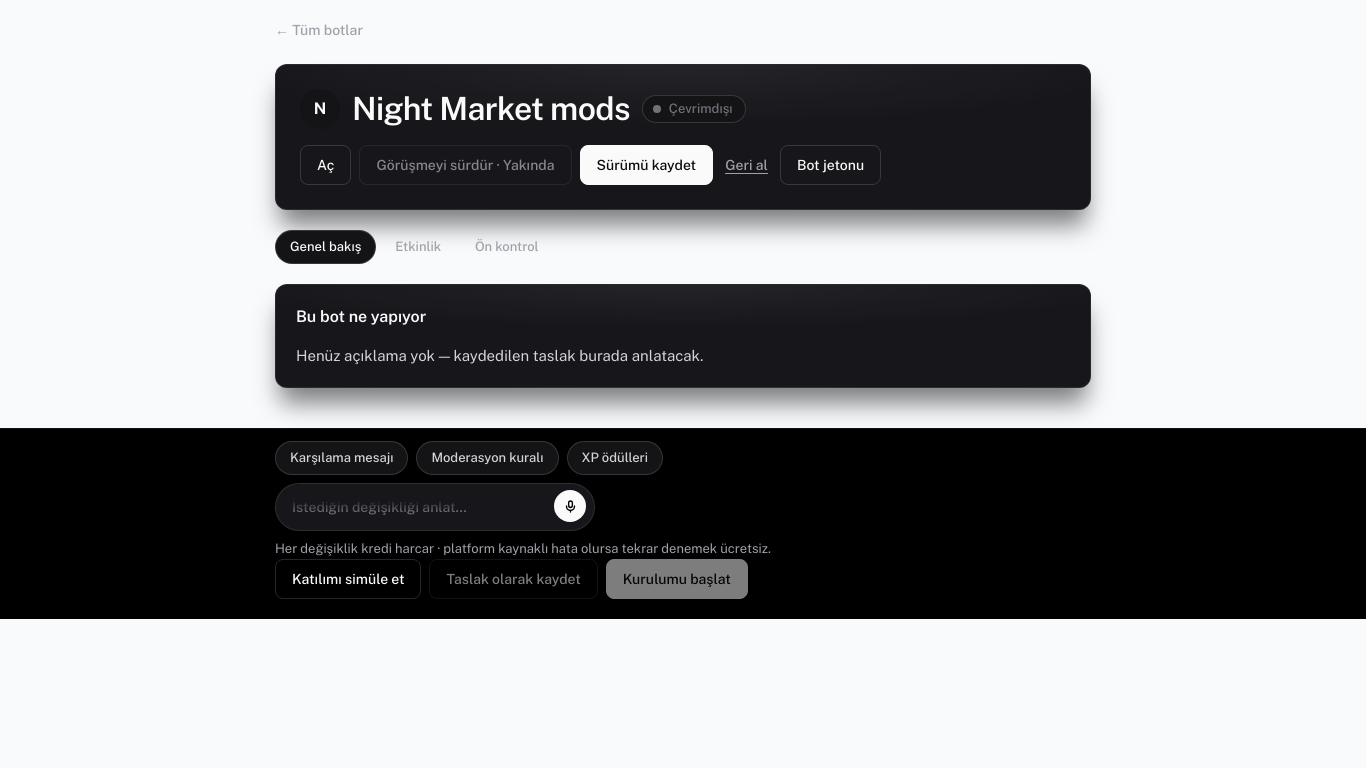
bot detail page › shows exactly one detail card at a time
Expected: the element "Bu bot ne yapıyor" is shown, [275, 284, 1091, 388]
Expected: the element "Son etkinlik" is not shown
Click the tab "Etkinlik": (418, 247) [380, 230, 456, 264]
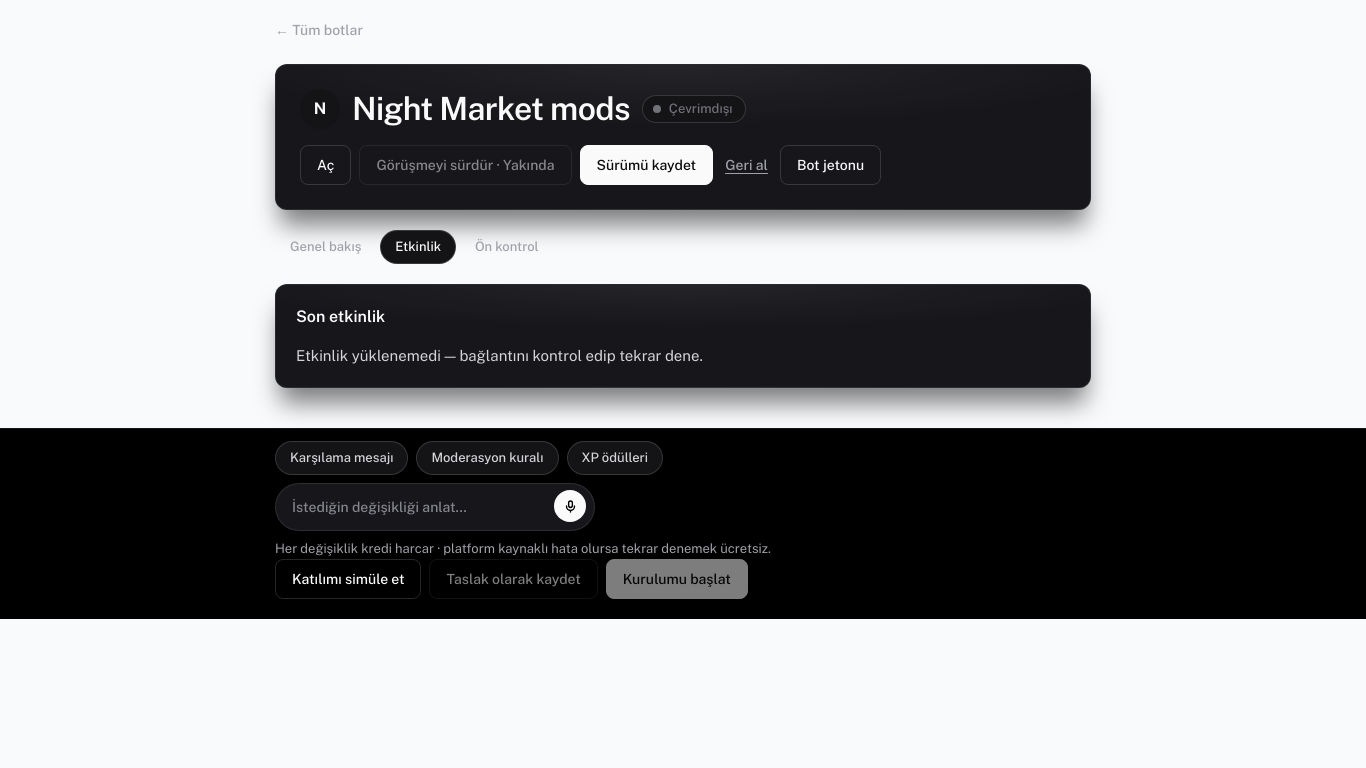
Now the element "Son etkinlik" is shown, box [275, 284, 1091, 388]
Now the heading "Bu bot ne yapıyor" is gone
Now the text "Etkinlik yüklenemedi — bağlantını kontrol edip tekrar dene." is shown, box [296, 347, 703, 364]
Click the tab "Ön kontrol": (507, 247) [460, 230, 554, 264]
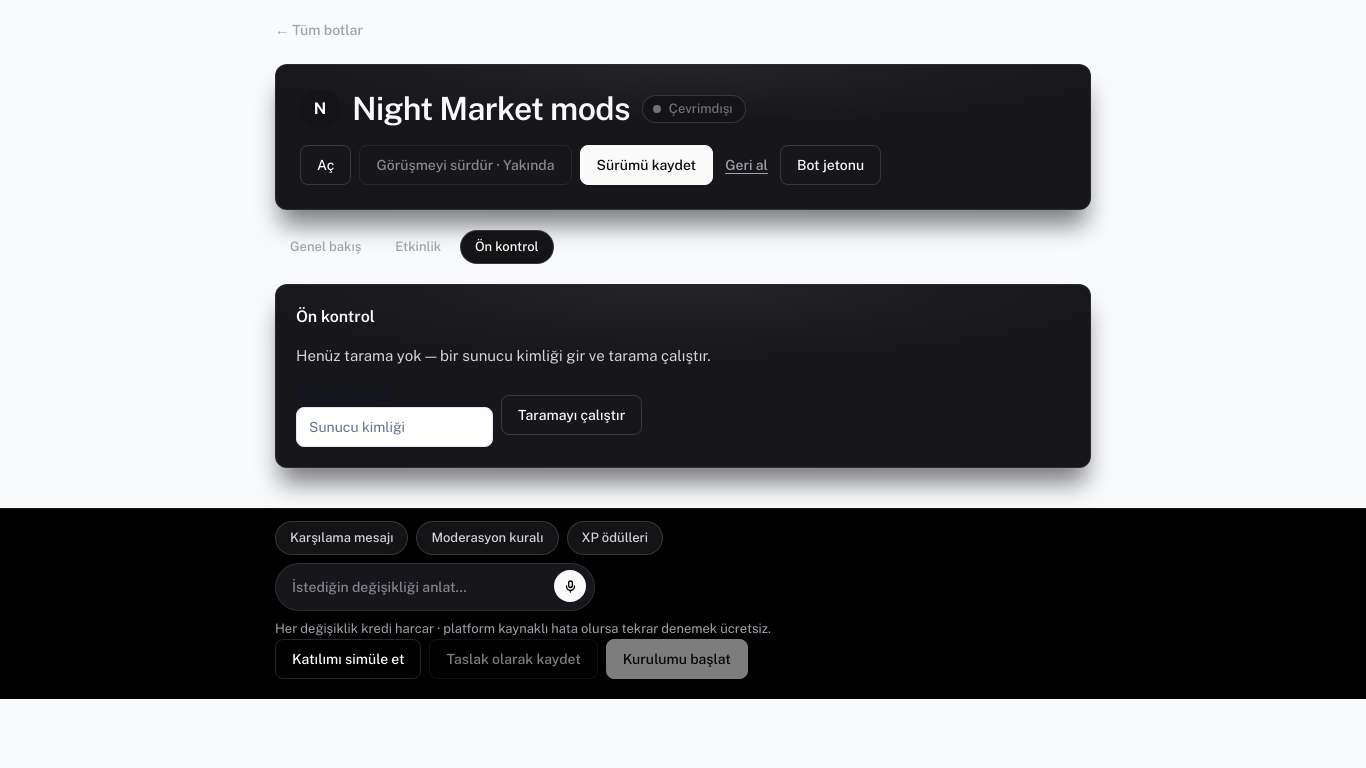
Expected: the heading "Bu bot ne yapıyor" is not shown
Now the element "Ön kontrol" is shown, box [275, 284, 1091, 468]
Now the heading "Son etkinlik" is gone
